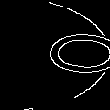O_W: (6, 29, 104, 81)
